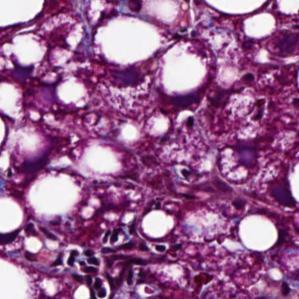inflammation: (49, 243, 116, 299), (103, 218, 175, 256)
